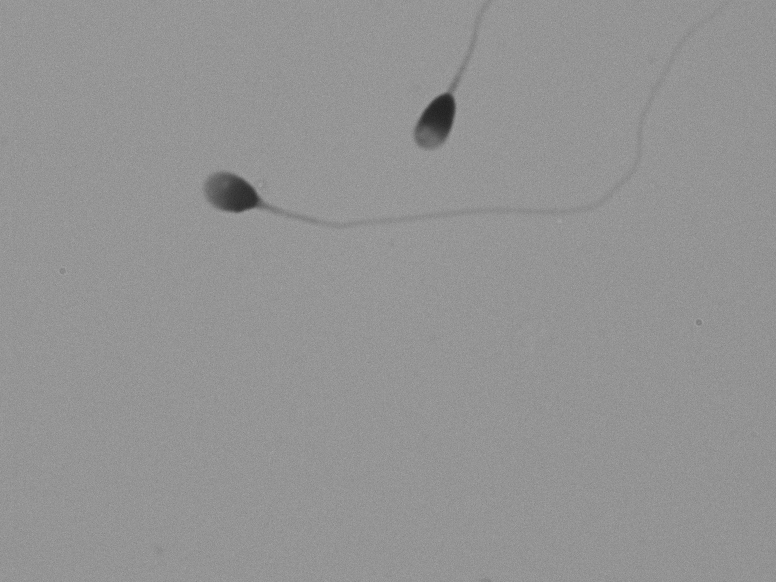Abnormal: (341, 15, 523, 178)
Normal: (140, 153, 730, 318)
